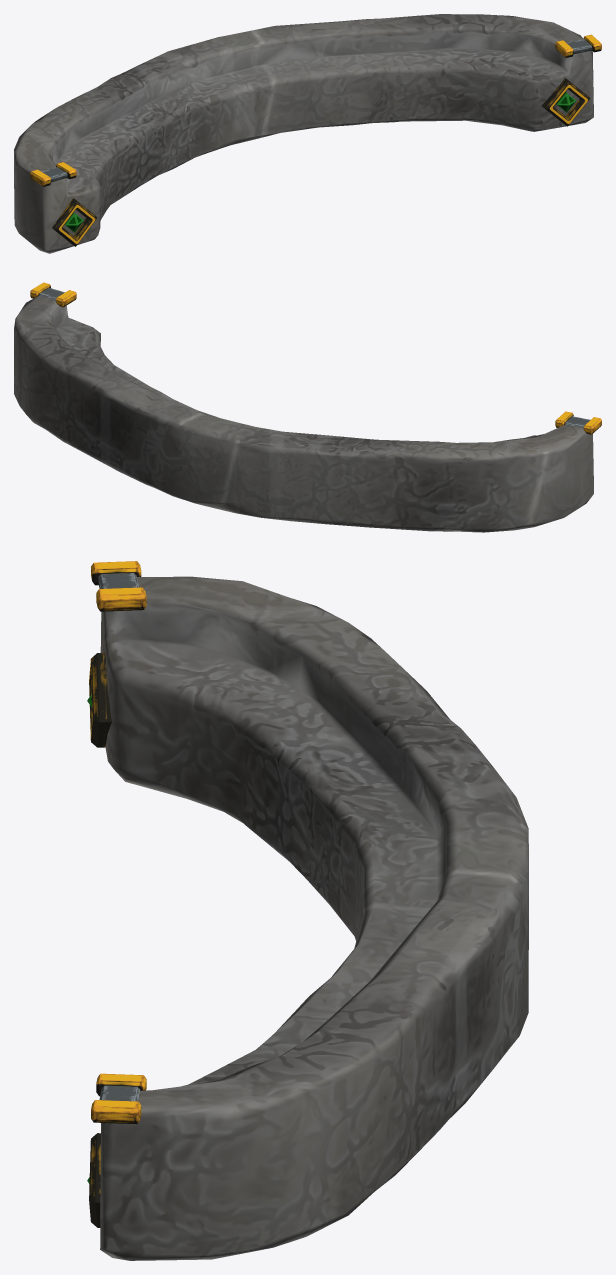
Rendered from Candle_Alters.fbx.
The picture shows the model from 3 angles, top to bottom: view 1: azimuth 30°, elevation 25°; view 2: azimuth 150°, elevation 25°; view 3: azimuth 270°, elevation 25°; orthographic projection. The views are drawn at different scales.
Parts seen in each view (by area): view 1: Wizard_Book:Altar; view 2: Wizard_Book:Altar; view 3: Wizard_Book:Altar.
Boxes of the visible parts, x1,y1,x2,y2 form: Wizard_Book:Altar: (14,14,601,253); Wizard_Book:Altar: (14,282,601,532); Wizard_Book:Altar: (87,561,528,1260).
Bounding box in the file's own units: 745 × 103 × 254.
